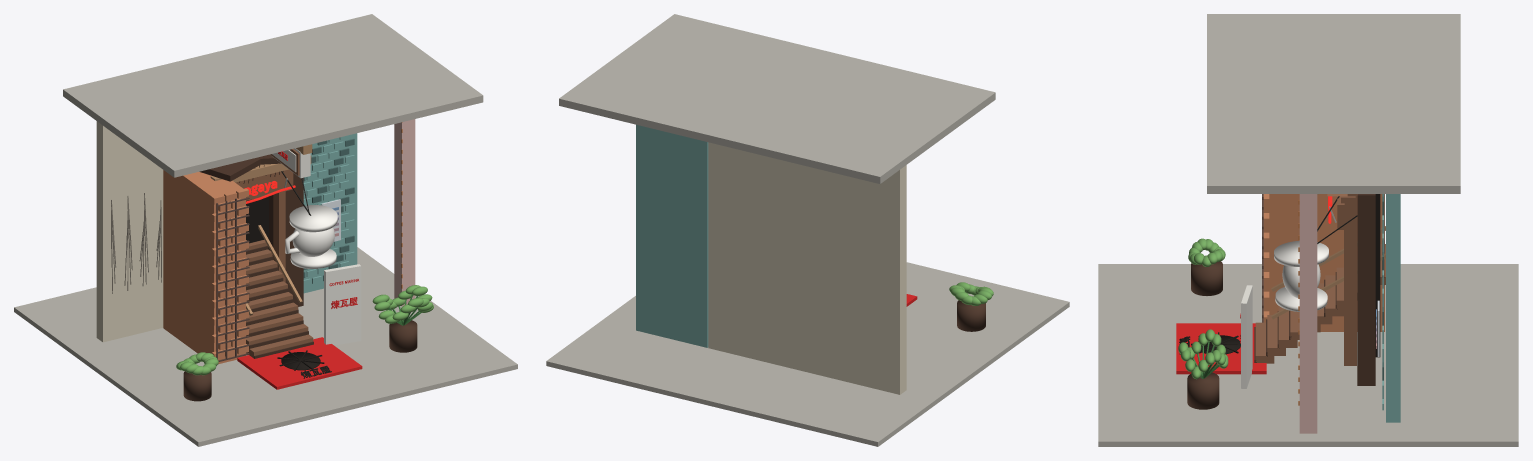
File: rengaya.glb
3 renders of one model, left to right at view 1: azimuth 30°, elevation 25°; view 2: azimuth 150°, elevation 25°; view 3: azimuth 270°, elevation 25°, orthographic. The views are drawn at different scales.
Parts seen in each view (by area): view 1: RGY1_CeilingPanel, RGY1_Ground, RGY1_LeftCreamWall, RGY1_LeftBrickWallBase, RGY1_PinkFrontColumn, RGY1_StandingSignBoard, RGY1_RightBlueTileWall, RGY1_RedEntranceMat, RGY1_RightWoodSideWall, RGY1_WhiteCupTopRim, RGY1_UpperCreamWall, RGY1_EntranceWoodFrameRight (+11 smaller); view 2: RGY1_CeilingPanel, RGY1_LeftCreamWall, RGY1_Ground, RGY1_RightBlueTileWall, RGY1_UpperCreamWall, RGY1_LeftFlowerPot; view 3: RGY1_Ground, RGY1_CeilingPanel, RGY1_PinkFrontColumn, RGY1_LeftBrickWallBase, RGY1_RightWoodSideWall, RGY1_RightBlueTileWall, RGY1_EntranceWoodFrameRight, RGY1_RedEntranceMat, RGY1_StandingSignBoard, RGY1_RightPlantPot, RGY1_LeftFlowerPot, RGY1_DarkEntranceHole (+7 smaller).
Boxes of the visible parts, box(x1,y1,x2,y2) form: RGY1_CeilingPanel: box(63, 14, 483, 177); RGY1_Ground: box(14, 247, 517, 446); RGY1_LeftCreamWall: box(96, 154, 163, 342); RGY1_LeftBrickWallBase: box(163, 170, 245, 364); RGY1_PinkFrontColumn: box(394, 119, 415, 306); RGY1_StandingSignBoard: box(324, 264, 361, 345); RGY1_RightBlueTileWall: box(303, 133, 357, 293); RGY1_RedEntranceMat: box(237, 337, 362, 389); RGY1_RightWoodSideWall: box(269, 173, 303, 306); RGY1_WhiteCupTopRim: box(289, 205, 337, 232); RGY1_UpperCreamWall: box(96, 121, 141, 163); RGY1_EntranceWoodFrameRight: box(273, 191, 285, 282); RGY1_CeilingPanel: box(559, 14, 995, 183); RGY1_LeftCreamWall: box(708, 160, 906, 394); RGY1_Ground: box(546, 262, 1069, 446); RGY1_RightBlueTileWall: box(636, 124, 708, 347); RGY1_UpperCreamWall: box(708, 142, 906, 208); RGY1_LeftFlowerPot: box(957, 300, 985, 331); RGY1_Ground: box(1098, 264, 1518, 446); RGY1_CeilingPanel: box(1207, 14, 1460, 193); RGY1_PinkFrontColumn: box(1299, 194, 1317, 433); RGY1_LeftBrickWallBase: box(1269, 194, 1384, 331); RGY1_RightWoodSideWall: box(1357, 194, 1375, 385); RGY1_RightBlueTileWall: box(1386, 194, 1400, 422); RGY1_EntranceWoodFrameRight: box(1344, 194, 1356, 365); RGY1_RedEntranceMat: box(1176, 323, 1266, 374); RGY1_StandingSignBoard: box(1241, 285, 1252, 388); RGY1_RightPlantPot: box(1187, 372, 1219, 409); RGY1_LeftFlowerPot: box(1191, 261, 1222, 295); RGY1_DarkEntranceHole: box(1375, 194, 1380, 357).
Bounding box in the file's own units: 6.04 × 4.09 × 5.8.
